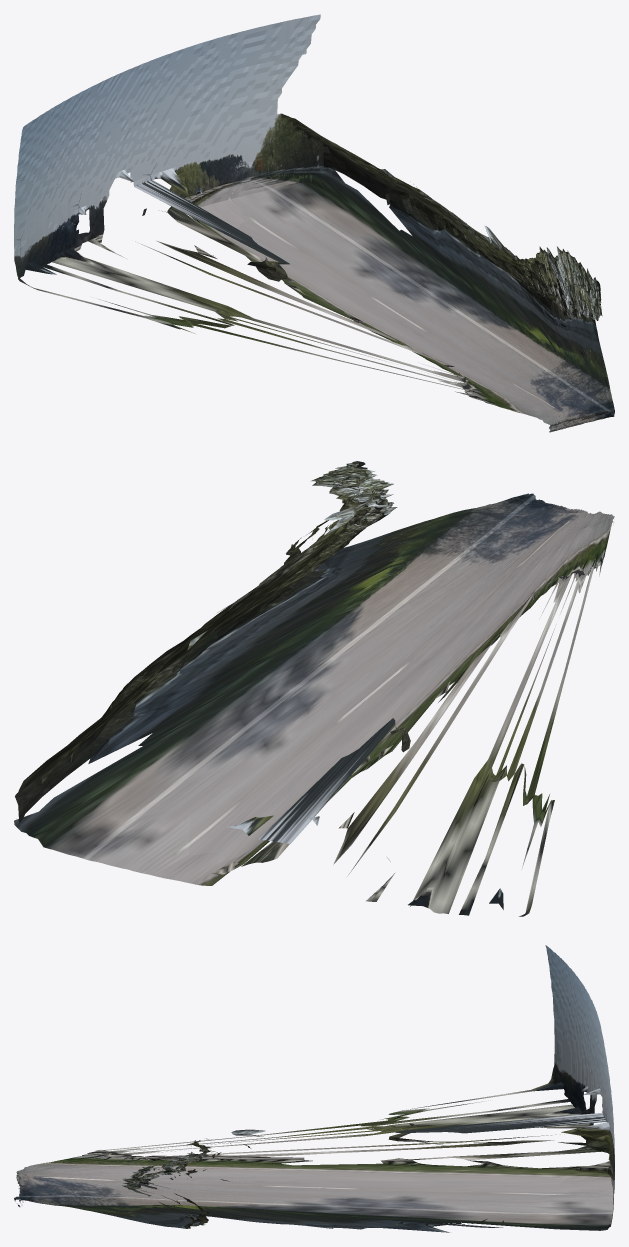
3 renders of one model, top to bottom at view 1: azimuth 30°, elevation 25°; view 2: azimuth 150°, elevation 25°; view 3: azimuth 270°, elevation 25°, orthographic. The views are drawn at different scales.
Visible parts, largest first — view 1: defaultobject; view 2: defaultobject; view 3: defaultobject.
Boxes of the visible parts, <box> form: defaultobject: <box>14,14,614,432</box>; defaultobject: <box>14,461,614,916</box>; defaultobject: <box>14,945,614,1232</box>.
Bounding box in the file's own units: 28.86 × 12.62 × 44.48.
Materials: 1 (1 with a texture image).
